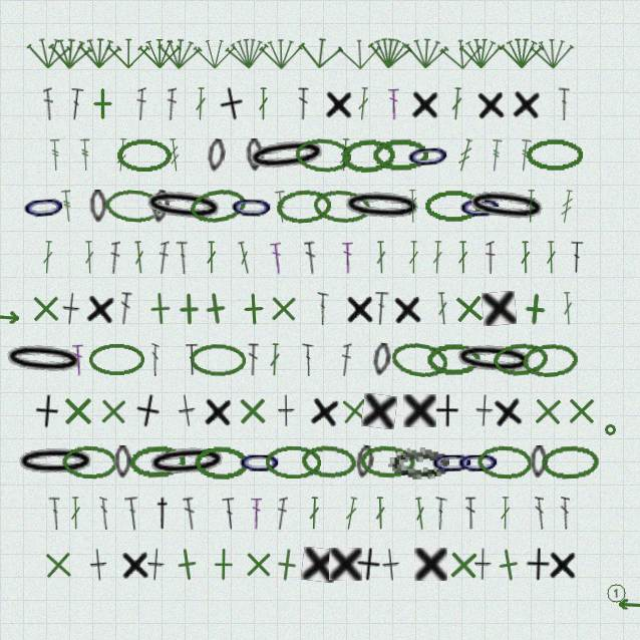chain: (243, 134, 329, 176), (140, 185, 226, 226), (462, 185, 548, 226), (1, 339, 86, 378), (450, 339, 535, 378), (144, 441, 229, 480), (339, 187, 423, 224), (14, 444, 97, 477), (187, 185, 247, 226), (388, 338, 448, 379), (311, 187, 371, 225), (104, 187, 163, 224), (293, 136, 351, 173), (490, 340, 548, 377), (299, 442, 357, 479), (519, 341, 578, 377), (274, 187, 331, 224), (387, 444, 448, 478), (339, 137, 396, 173), (61, 443, 119, 478), (539, 443, 597, 478), (128, 443, 185, 478), (358, 443, 415, 478), (475, 443, 531, 478), (189, 342, 245, 376), (193, 444, 249, 478), (524, 138, 581, 171), (423, 189, 480, 222), (116, 138, 172, 171), (371, 138, 427, 171), (88, 342, 144, 375), (264, 444, 320, 477), (425, 342, 480, 375), (403, 137, 451, 173), (20, 188, 68, 224), (228, 189, 274, 223), (456, 189, 502, 223), (236, 444, 282, 477), (428, 444, 474, 477), (454, 444, 500, 477), (370, 341, 391, 376), (353, 443, 374, 478), (205, 138, 226, 172), (150, 189, 170, 223), (245, 138, 263, 171), (89, 189, 107, 222), (528, 444, 546, 477), (114, 444, 131, 477)
double: (235, 240, 252, 274), (124, 495, 141, 529), (68, 87, 84, 121), (221, 495, 237, 529), (342, 495, 358, 529), (372, 291, 388, 324), (182, 495, 197, 529), (269, 240, 283, 274), (303, 240, 317, 274), (412, 495, 426, 529), (355, 87, 369, 120), (132, 240, 146, 273), (568, 240, 582, 273), (118, 291, 132, 324), (432, 495, 446, 528), (449, 87, 462, 120), (555, 87, 568, 120), (41, 240, 54, 273), (175, 240, 188, 273), (315, 291, 328, 324), (435, 291, 448, 324), (185, 342, 198, 375), (48, 495, 61, 528), (194, 87, 206, 120), (83, 240, 95, 273), (157, 240, 169, 273), (374, 240, 386, 273), (430, 240, 442, 273), (560, 291, 572, 324), (72, 342, 84, 375), (268, 342, 280, 375), (301, 342, 313, 375), (339, 342, 351, 375), (275, 495, 287, 528), (307, 495, 319, 528), (373, 495, 385, 528), (43, 87, 54, 120), (257, 87, 268, 120), (297, 87, 308, 120), (387, 87, 398, 120), (109, 240, 120, 273), (205, 240, 216, 273), (341, 240, 352, 273), (407, 240, 418, 273), (456, 240, 467, 273), (518, 240, 529, 273), (544, 240, 555, 273), (247, 342, 258, 375), (70, 495, 81, 528), (250, 495, 261, 528), (464, 495, 475, 528), (498, 495, 509, 528), (136, 87, 146, 120), (166, 87, 176, 120), (484, 240, 494, 273), (99, 495, 109, 528), (533, 495, 543, 528), (558, 495, 568, 528), (150, 342, 159, 375)
fan: (223, 34, 270, 71), (365, 34, 412, 71), (297, 34, 343, 71), (47, 35, 93, 71), (156, 35, 202, 71), (437, 35, 483, 71), (402, 35, 448, 70), (26, 35, 71, 70), (77, 35, 122, 70), (528, 35, 573, 70), (336, 36, 381, 70), (258, 36, 302, 70), (106, 36, 150, 69), (137, 36, 181, 69), (192, 36, 236, 69), (498, 36, 542, 69), (458, 36, 501, 69)
half_double: (152, 495, 172, 528)
noise: (603, 580, 625, 602), (0, 309, 21, 323), (614, 597, 640, 608), (602, 422, 615, 435)
single: (488, 544, 526, 582), (196, 289, 233, 326), (168, 544, 205, 581), (515, 290, 551, 326), (360, 392, 396, 428), (268, 545, 304, 581), (300, 545, 336, 581), (142, 290, 177, 325), (450, 290, 485, 325), (480, 290, 515, 325), (336, 392, 371, 427), (307, 392, 341, 428), (490, 392, 523, 428), (171, 291, 205, 325), (236, 291, 270, 325), (96, 393, 130, 427), (529, 393, 563, 427), (41, 546, 75, 580), (445, 546, 479, 580), (84, 290, 117, 325), (215, 85, 246, 122), (509, 86, 541, 121), (132, 391, 162, 428), (86, 87, 119, 120), (29, 291, 62, 324), (266, 291, 299, 324), (61, 393, 94, 426), (235, 393, 268, 426), (402, 393, 435, 426), (563, 393, 596, 426), (206, 546, 239, 579), (241, 546, 274, 579), (328, 546, 361, 579), (413, 546, 446, 579), (474, 87, 505, 121), (391, 291, 422, 325), (202, 393, 233, 427), (323, 87, 353, 120), (409, 87, 439, 120), (344, 291, 374, 324), (120, 546, 150, 579), (546, 546, 576, 579), (353, 545, 381, 580), (33, 393, 60, 427), (523, 546, 549, 579), (433, 393, 458, 426), (176, 392, 197, 427), (61, 291, 81, 325), (380, 546, 400, 580), (89, 546, 108, 580), (146, 546, 165, 580), (474, 393, 492, 426), (277, 393, 294, 426), (473, 546, 490, 579)
treble: (454, 138, 473, 172), (557, 189, 573, 223), (487, 138, 502, 172), (516, 138, 531, 172), (273, 189, 288, 223), (167, 138, 181, 171), (60, 189, 74, 222), (49, 138, 62, 171), (115, 138, 128, 171), (337, 138, 350, 171), (79, 138, 91, 171), (523, 189, 535, 222), (406, 189, 417, 222)
